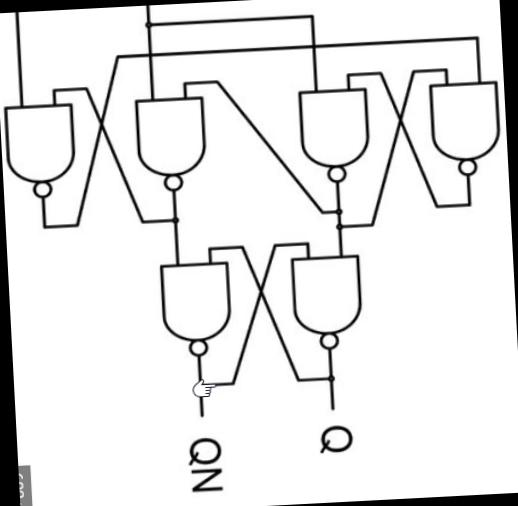nand: (151, 256, 238, 366), (423, 74, 504, 185), (130, 89, 214, 196), (293, 84, 379, 187), (0, 94, 81, 202), (285, 248, 369, 352)
